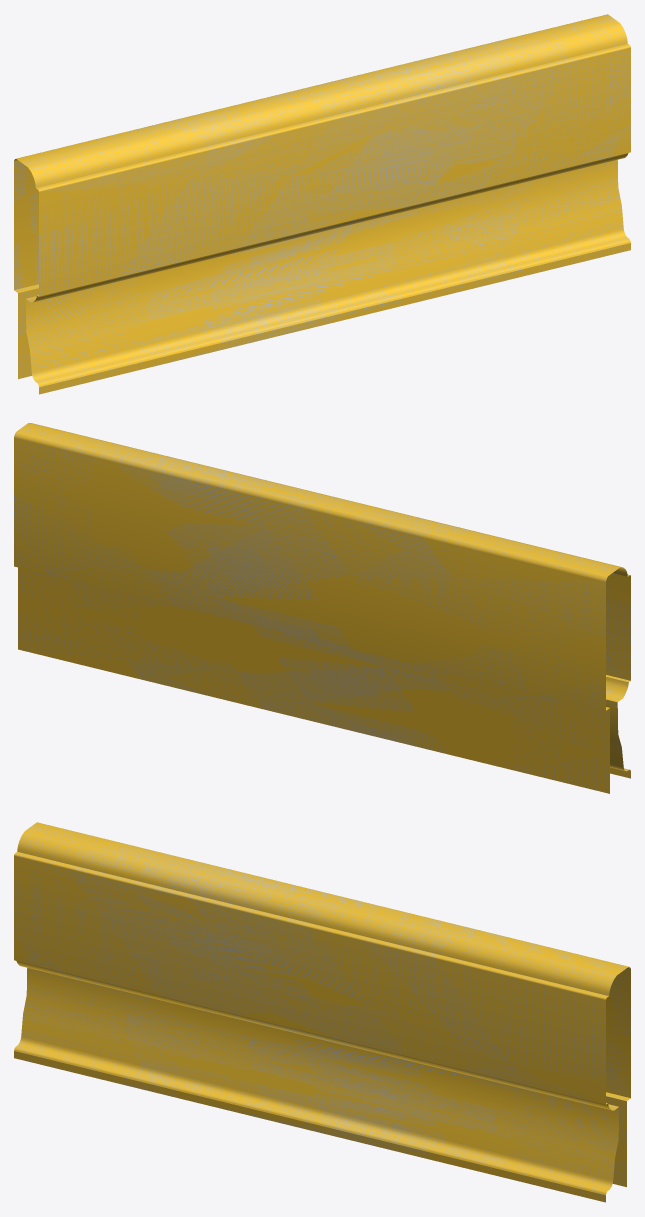
File: original-62.obj
3 renders of one model, top to bottom at view 1: azimuth 30°, elevation 25°; view 2: azimuth 150°, elevation 25°; view 3: azimuth 330°, elevation 25°, orthographic.
Parts seen in each view (by area): view 1: RT_11_TC1/RT_11_TC/mesh48/mesh48-geometry#mesh48-geometry; view 2: RT_11_TC1/RT_11_TC/mesh48/mesh48-geometry#mesh48-geometry; view 3: RT_11_TC1/RT_11_TC/mesh48/mesh48-geometry#mesh48-geometry.
Part boxes in pixels (x1,y1,x2,y2): RT_11_TC1/RT_11_TC/mesh48/mesh48-geometry#mesh48-geometry: (14,14,630,394); RT_11_TC1/RT_11_TC/mesh48/mesh48-geometry#mesh48-geometry: (14,423,630,793); RT_11_TC1/RT_11_TC/mesh48/mesh48-geometry#mesh48-geometry: (14,822,630,1202).
Bounding box in the file's own units: 0.3889 × 0.1375 × 0.0285.
